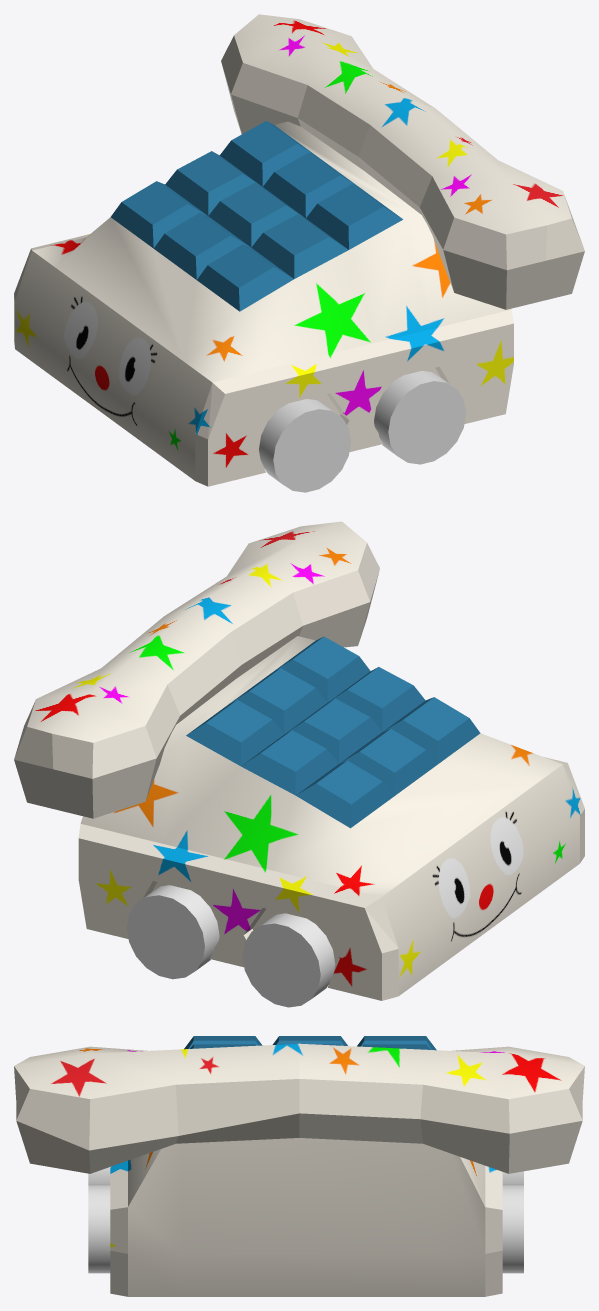
Rendered from telefonoT.FBX.
The picture shows the model from 3 angles, top to bottom: view 1: azimuth 30°, elevation 25°; view 2: azimuth 150°, elevation 25°; view 3: azimuth 270°, elevation 25°; orthographic projection.
Visible parts, largest first — view 1: Cuerpo, Mando, Rueda_01; view 2: Cuerpo, Mando, Rueda_01; view 3: Cuerpo, Mando, Rueda_01.
Part boxes in pixels (box(x1,y1,x2,y2)): Cuerpo: box(14, 121, 513, 486); Mando: box(221, 14, 584, 309); Rueda_01: box(259, 371, 466, 492); Cuerpo: box(78, 636, 584, 1000); Mando: box(14, 521, 379, 818); Rueda_01: box(126, 885, 335, 1007); Cuerpo: box(110, 1036, 502, 1296); Mando: box(14, 1043, 584, 1173); Rueda_01: box(88, 1167, 523, 1273).
Bounding box in the file's own units: 35.34 × 25.08 × 49.
1 material, 1 textured.
